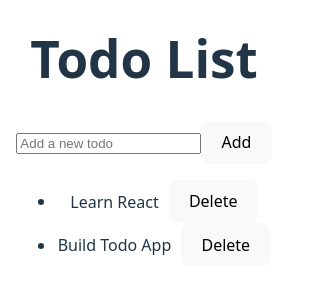
TodoList › adds a new todo
Step 1. Type "New Todo" into the field with placeholder "Add a new todo" → {"x": 109, "y": 144}, box [16,133,201,154]
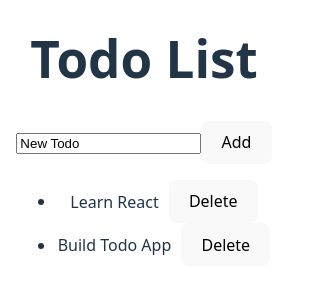
Step 2. Click the button "Add" → {"x": 237, "y": 142}, box [201,121,272,164]
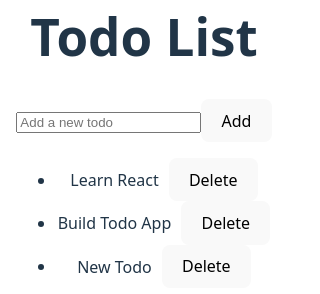
Result: the list item "New Todo" is shown at [77,255,152,277]
